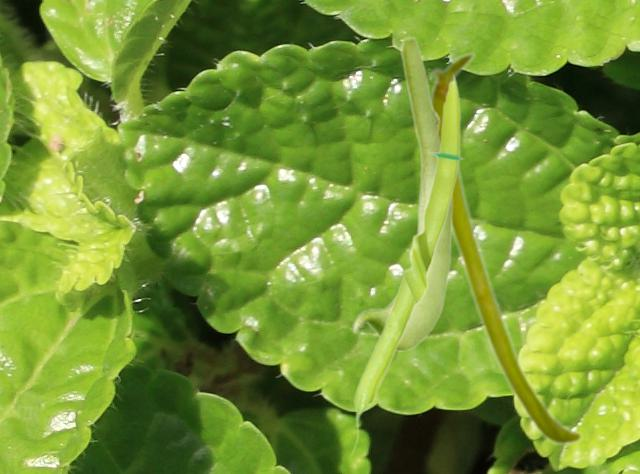french_bean: (428, 50, 583, 446), (349, 71, 464, 457), (351, 35, 452, 350)
